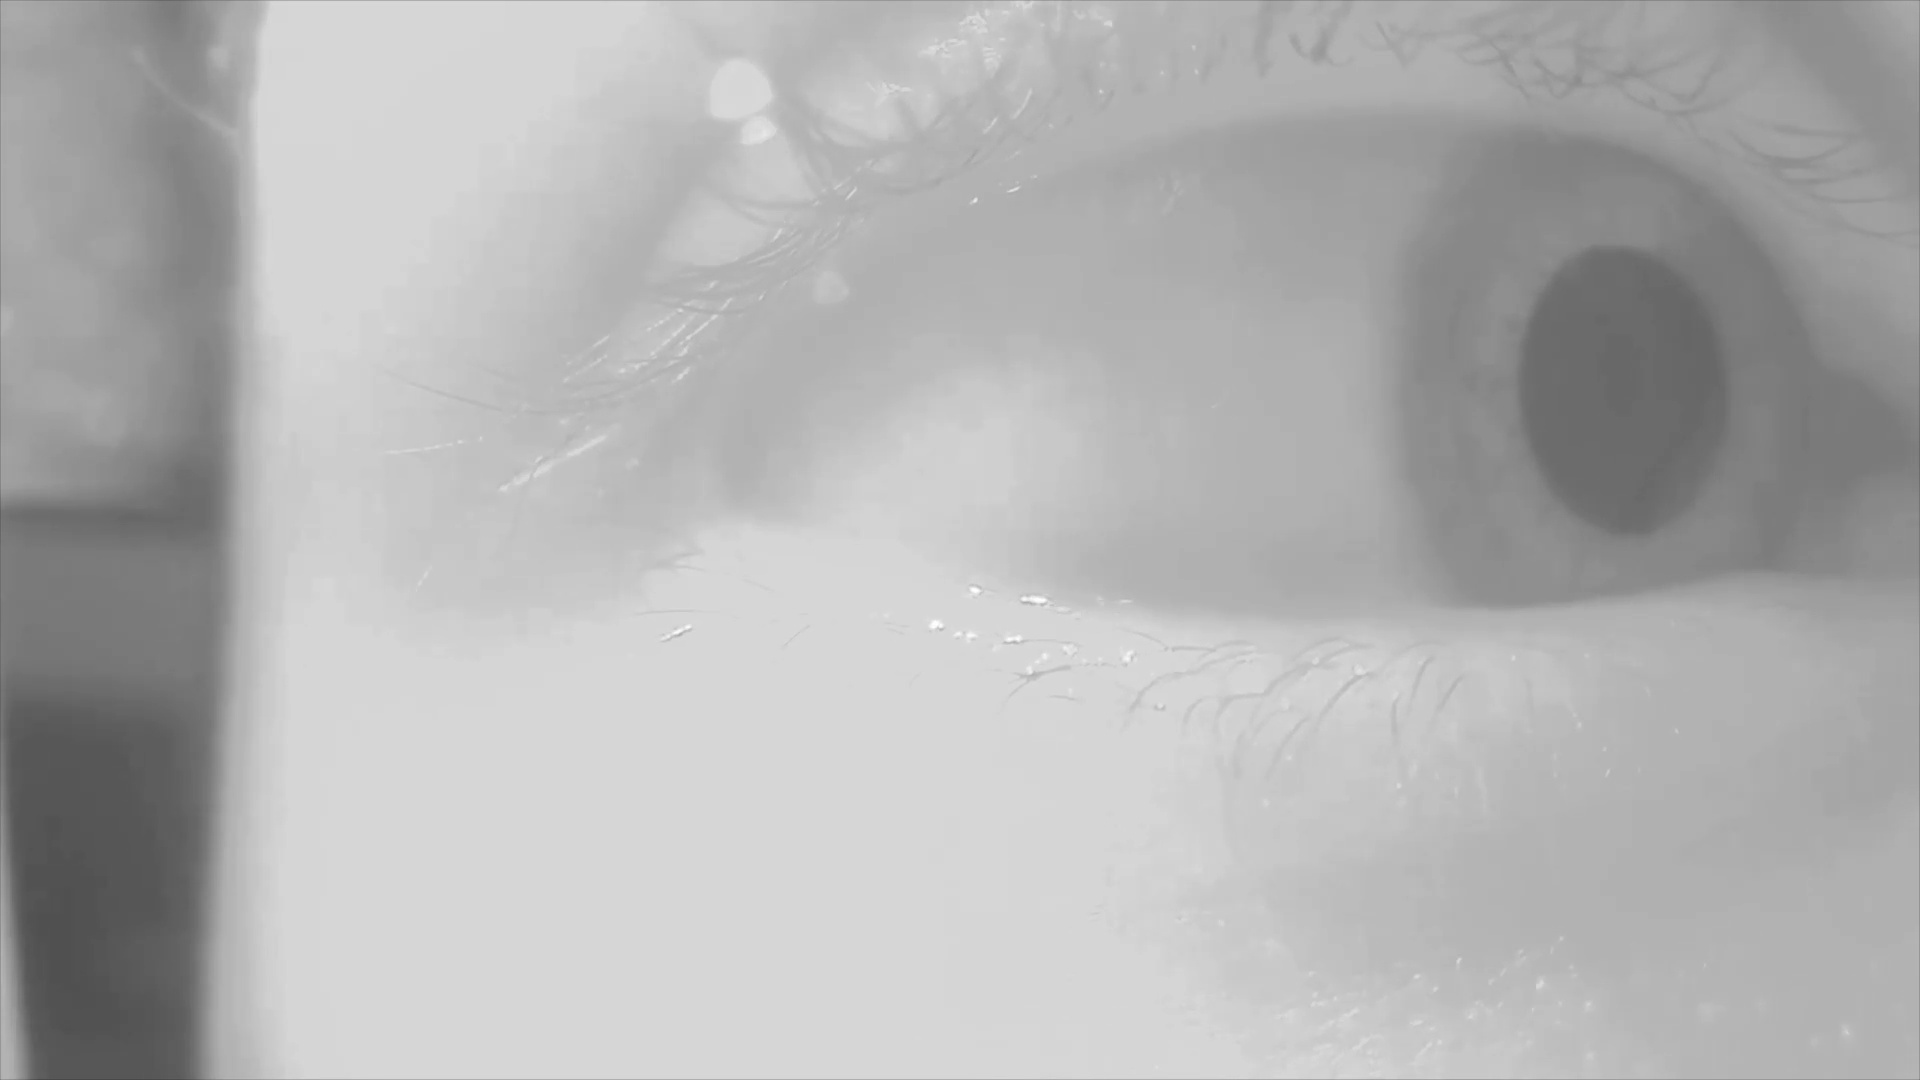pupil: (1519, 248, 1730, 537)
